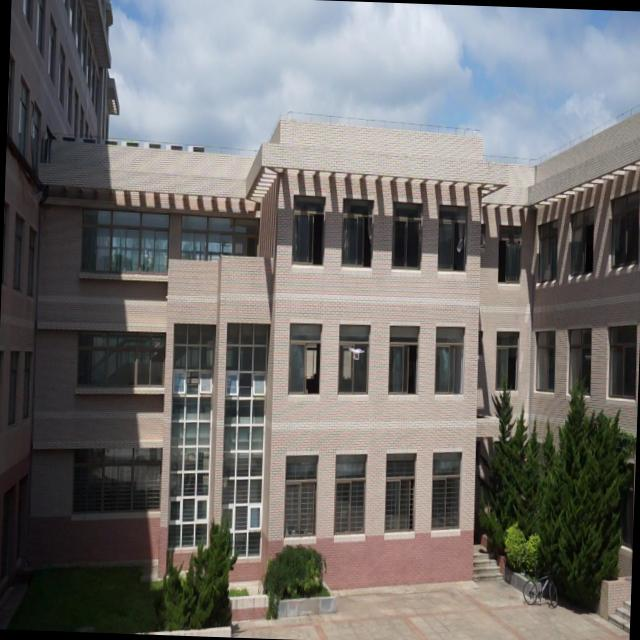drone: (346, 340, 366, 362)
